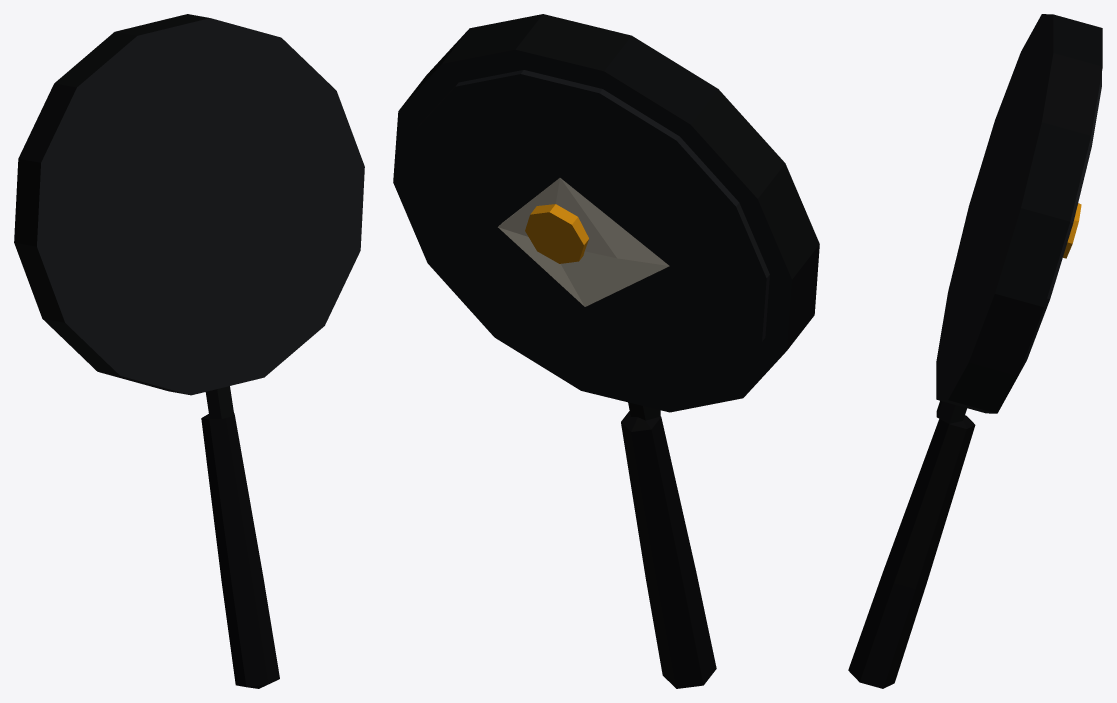
The model's file is SM_Wep_Fun_FryingPan.glb.
The picture shows the model from 3 angles, left to right: view 1: azimuth 30°, elevation 25°; view 2: azimuth 150°, elevation 25°; view 3: azimuth 270°, elevation 25°; orthographic projection. The views are drawn at different scales.
Parts seen in each view (by area): view 1: SM_Wep_Fun_FryingPan; view 2: SM_Wep_Fun_FryingPan; view 3: SM_Wep_Fun_FryingPan.
Part boxes in pixels (left/top/right/bottom): SM_Wep_Fun_FryingPan: left=14, top=14, right=364, bottom=688; SM_Wep_Fun_FryingPan: left=393, top=14, right=819, bottom=688; SM_Wep_Fun_FryingPan: left=848, top=14, right=1102, bottom=688.
Bounding box in the file's own units: 0.27 × 0.4718 × 0.1676.
Materials: 1 (1 with a texture image).
